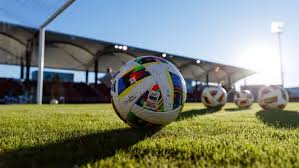football ball: (109, 55, 188, 131), (261, 82, 292, 112), (200, 86, 226, 111), (228, 88, 255, 111)
